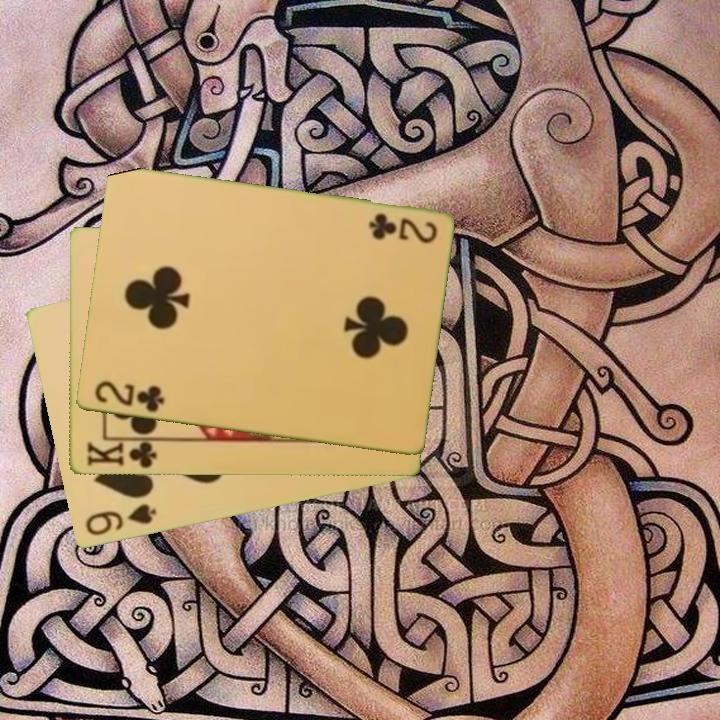2c: (91, 377, 167, 416), (365, 210, 440, 247)
9s: (82, 500, 159, 539)
Kc: (83, 437, 162, 472)
